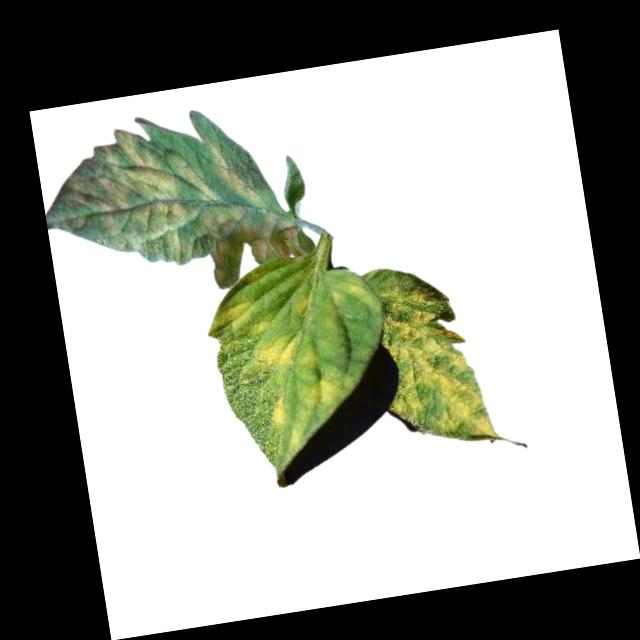Leaf_Mold: (32, 95, 297, 296), (373, 247, 500, 453), (249, 330, 324, 377), (203, 297, 269, 342), (327, 271, 374, 317), (301, 372, 349, 412), (266, 394, 294, 435)
